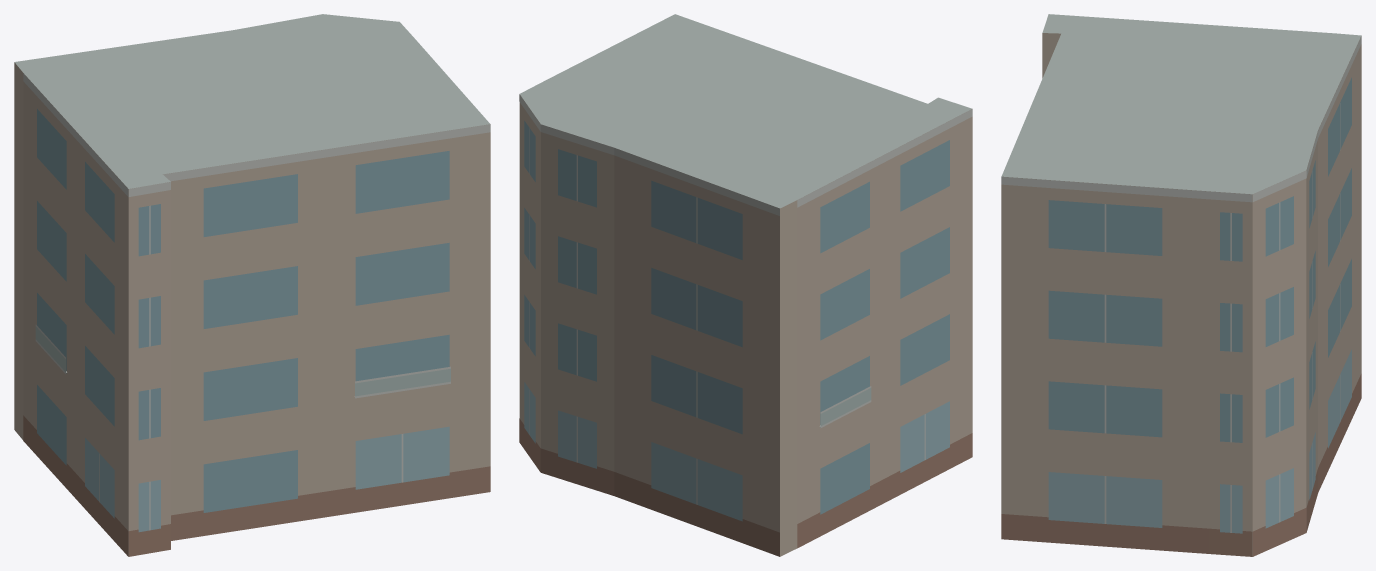
File: survey-upis-32509333.glb
The picture shows the model from 3 angles, left to right: view 1: azimuth 30°, elevation 25°; view 2: azimuth 150°, elevation 25°; view 3: azimuth 270°, elevation 25°; orthographic projection. The views are drawn at different scales.
Parts seen in each view (by area): view 1: survey-upis-32509333.tmp; view 2: survey-upis-32509333.tmp; view 3: survey-upis-32509333.tmp.
Boxes of the visible parts, bbox=[...] form: survey-upis-32509333.tmp: bbox=[14, 14, 490, 556]; survey-upis-32509333.tmp: bbox=[519, 14, 972, 556]; survey-upis-32509333.tmp: bbox=[1001, 14, 1361, 556].
Bounding box in the file's own units: 11.74 × 11 × 9.91.
